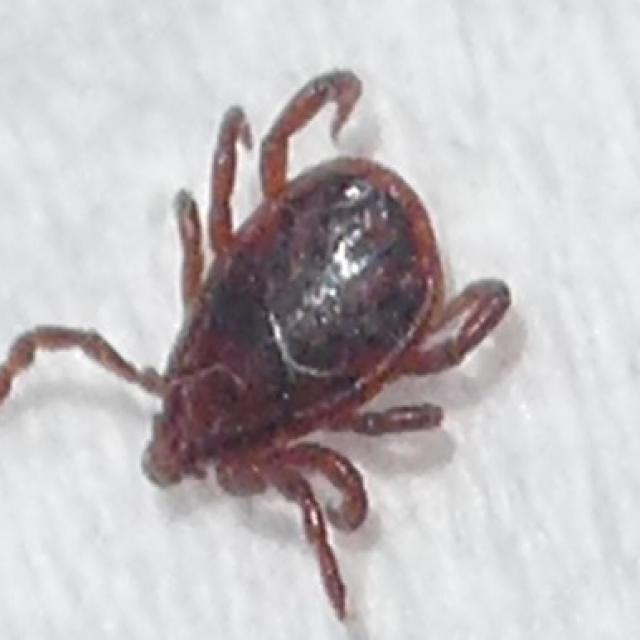Rhipicephalus Sanguineus-M: (0, 71, 514, 620)
